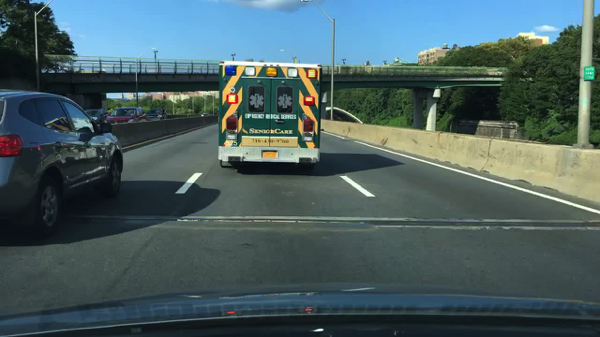car: (0, 88, 123, 239), (105, 105, 146, 124), (86, 109, 108, 126), (145, 108, 169, 121), (200, 112, 212, 118)
traffic sign: (582, 66, 595, 82)
truck: (218, 60, 322, 176)
